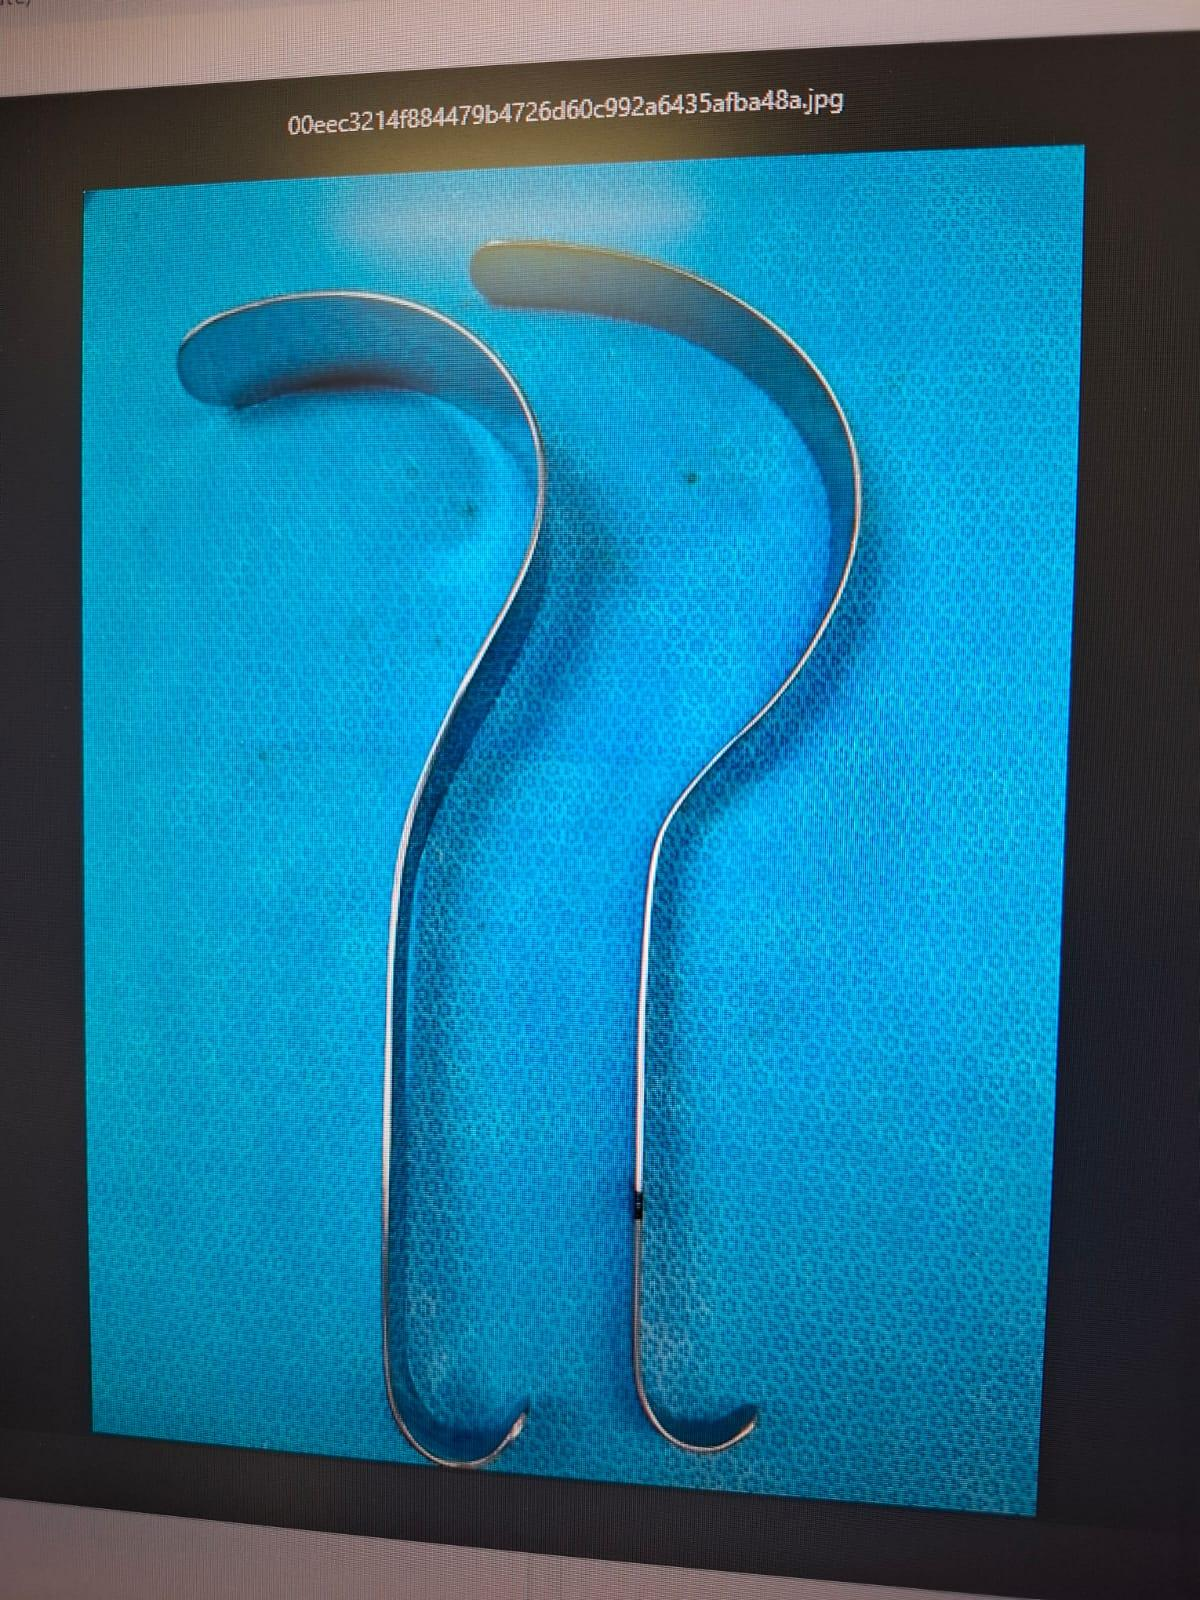Deaver Retractor: (465, 226, 913, 1485), (150, 277, 577, 1493)
